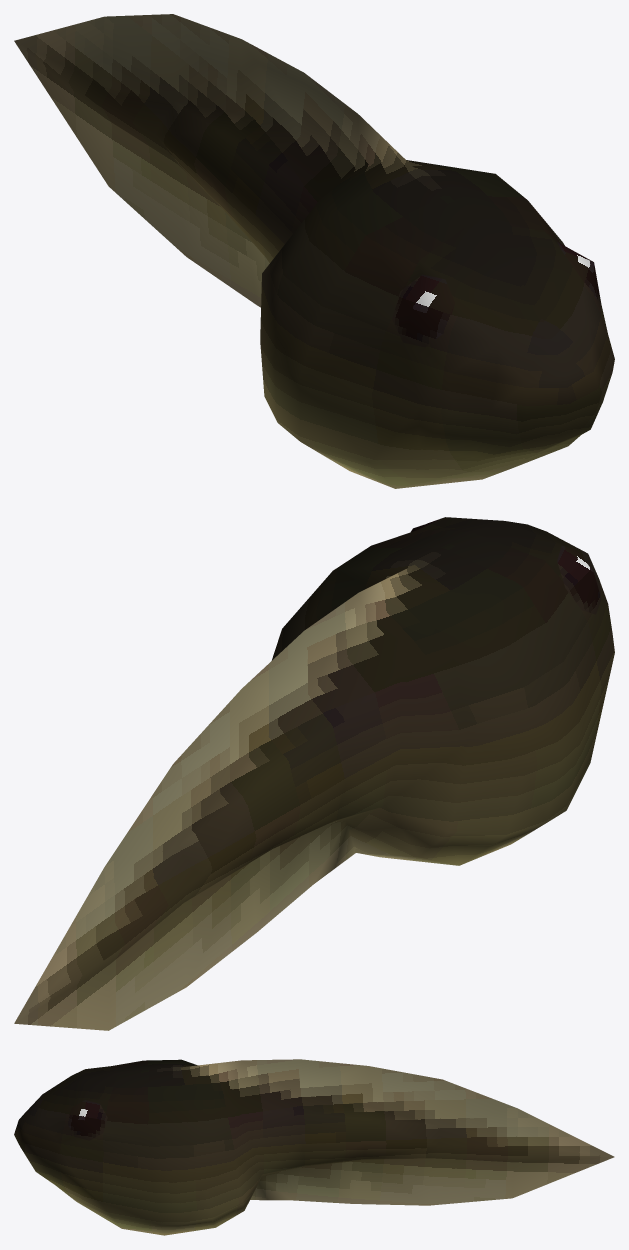
Rendered from FishOtamajakusi.glb.
3 views of the same model, one above another, from view 1: azimuth 30°, elevation 25°; view 2: azimuth 150°, elevation 25°; view 3: azimuth 270°, elevation 25° (orthographic). The views are drawn at different scales.
Parts seen in each view (by area): view 1: FishOtamajakusi__mOtamajakusi; view 2: FishOtamajakusi__mOtamajakusi; view 3: FishOtamajakusi__mOtamajakusi.
Part boxes in pixels (x1,y1,x2,y2): FishOtamajakusi__mOtamajakusi: (14,14,614,488); FishOtamajakusi__mOtamajakusi: (14,517,614,1030); FishOtamajakusi__mOtamajakusi: (14,1059,614,1235).
Bounding box in the file's own units: 0.5996 × 0.587 × 2.
1 material, 1 textured.
